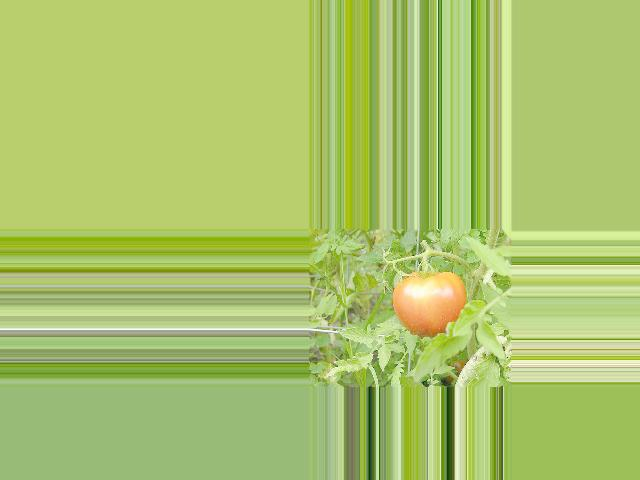tomato: (393, 270, 465, 335)
